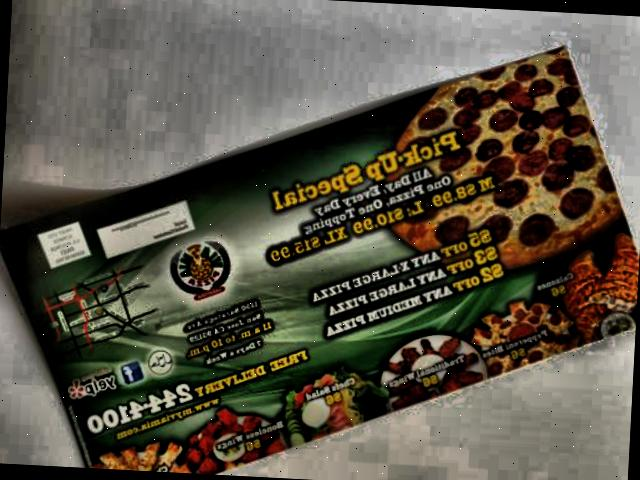Paper: (0, 13, 640, 480)
